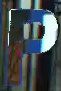Parking: (1, 1, 57, 90)
